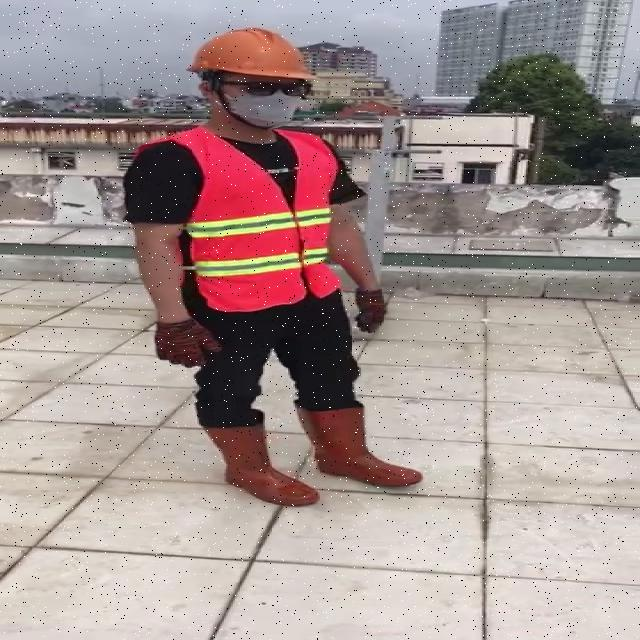Hard_hat: (184, 21, 323, 91)
Person: (113, 25, 425, 511)
Vest: (180, 125, 338, 313)
